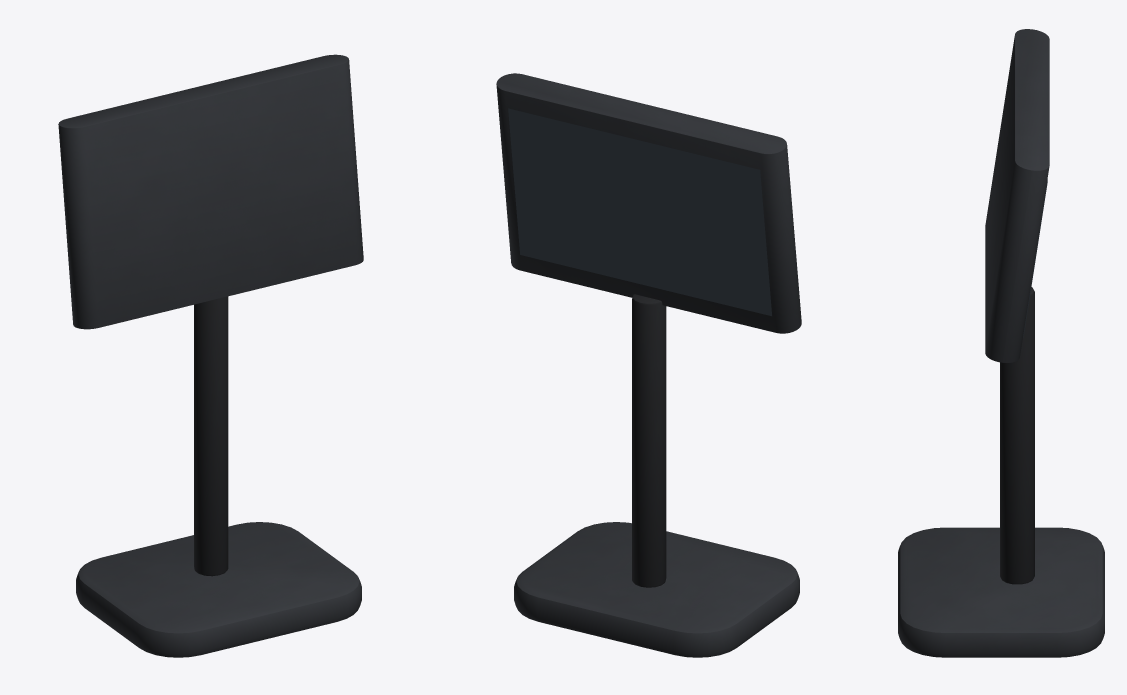
The model's file is customer_display.glb.
3 views of the same model, side by side, from view 1: azimuth 30°, elevation 25°; view 2: azimuth 150°, elevation 25°; view 3: azimuth 270°, elevation 25° (orthographic).
Visible parts, largest first — view 1: CustDisp_Frame, CustDisp_Base, CustDisp_Pole; view 2: CustomerDisplay_Screen, CustDisp_Base, CustDisp_Frame, CustDisp_Pole; view 3: CustDisp_Base, CustDisp_Frame, CustDisp_Pole.
Part boxes in pixels (<box>): CustDisp_Frame: <box>58,54,363,329</box>; CustDisp_Base: <box>76,522,361,657</box>; CustDisp_Pole: <box>194,296,228,576</box>; CustomerDisplay_Screen: <box>508,108,771,316</box>; CustDisp_Base: <box>514,522,799,657</box>; CustDisp_Frame: <box>496,73,801,333</box>; CustDisp_Pole: <box>632,294,666,587</box>; CustDisp_Base: <box>898,527,1104,657</box>; CustDisp_Frame: <box>985,29,1049,362</box>; CustDisp_Pole: <box>1000,287,1034,584</box>.
Bounding box in the file's own units: 0.22 × 0.36 × 0.14.
4 materials, 2 textured.
